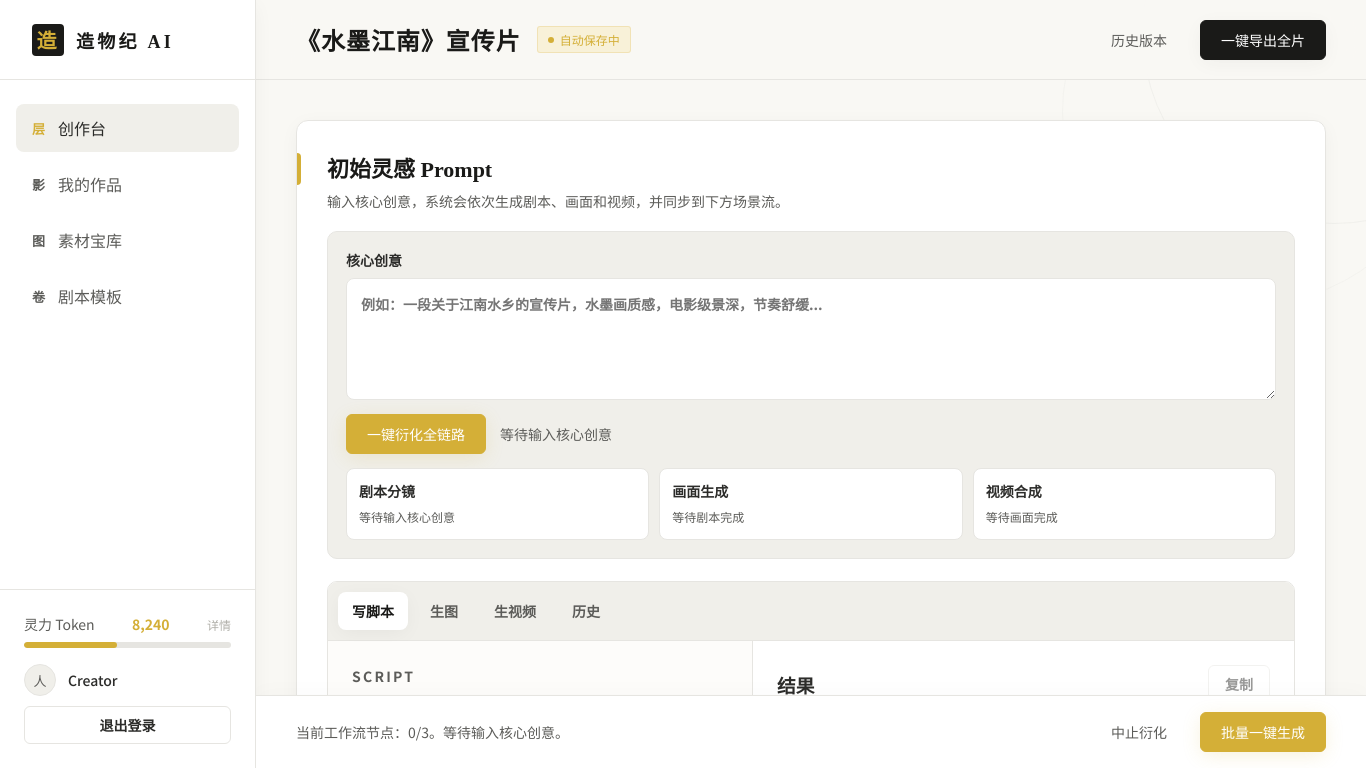
WorkflowShell › shows the failed pipeline stage and retries from the failed step
Expected: the text "Creator" is shown, [68,670,118,690]
Type "水墨江南宣传片" into the text box labelled "核心创意" at (811, 339), box [346,278,1276,400]
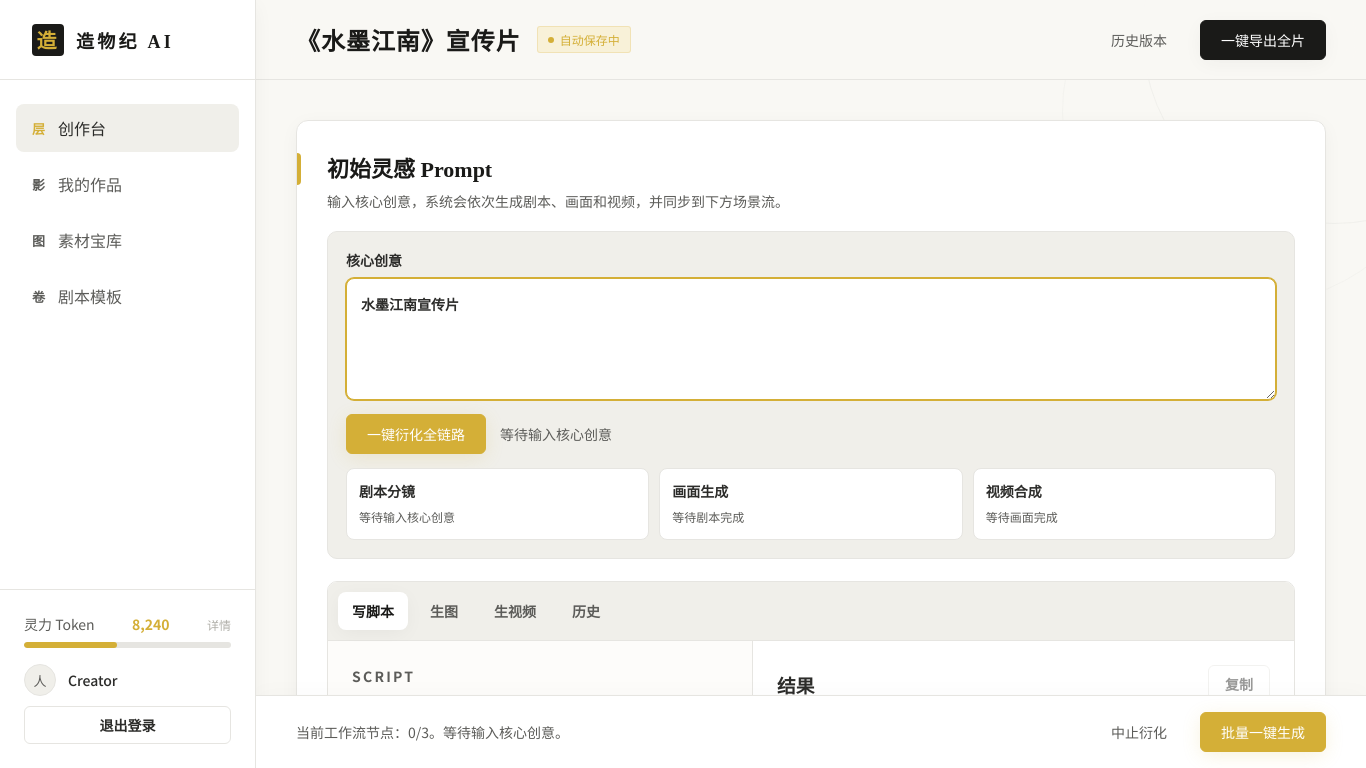
Click the button "一键衍化全链路" at (416, 434), box [346,414,486,454]
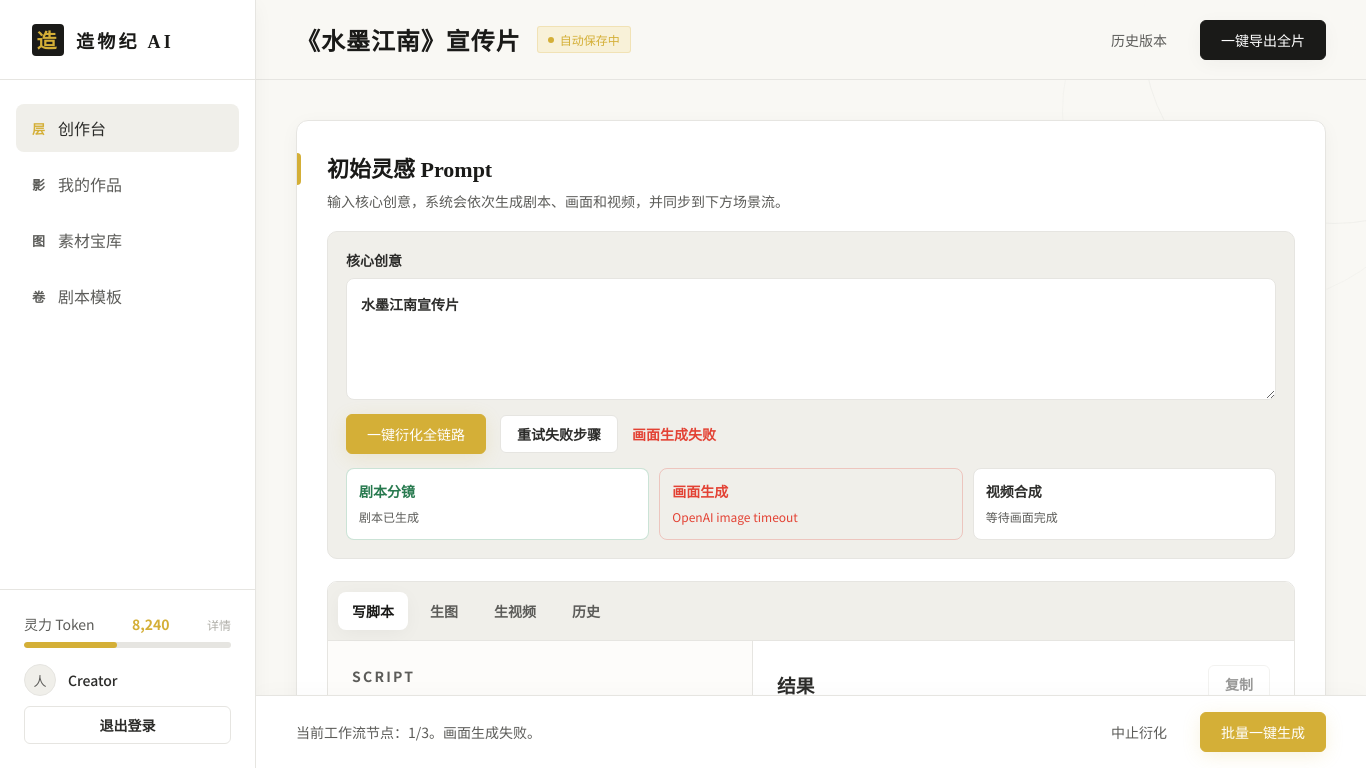
Now the text "画面生成失败" is shown, box [632,424,716,444]
Now the text "OpenAI image timeout" is shown, box [672,508,798,525]
Now the button "重试失败步骤" is shown
Click the button "重试失败步骤" at (559, 434), box [500,415,618,453]
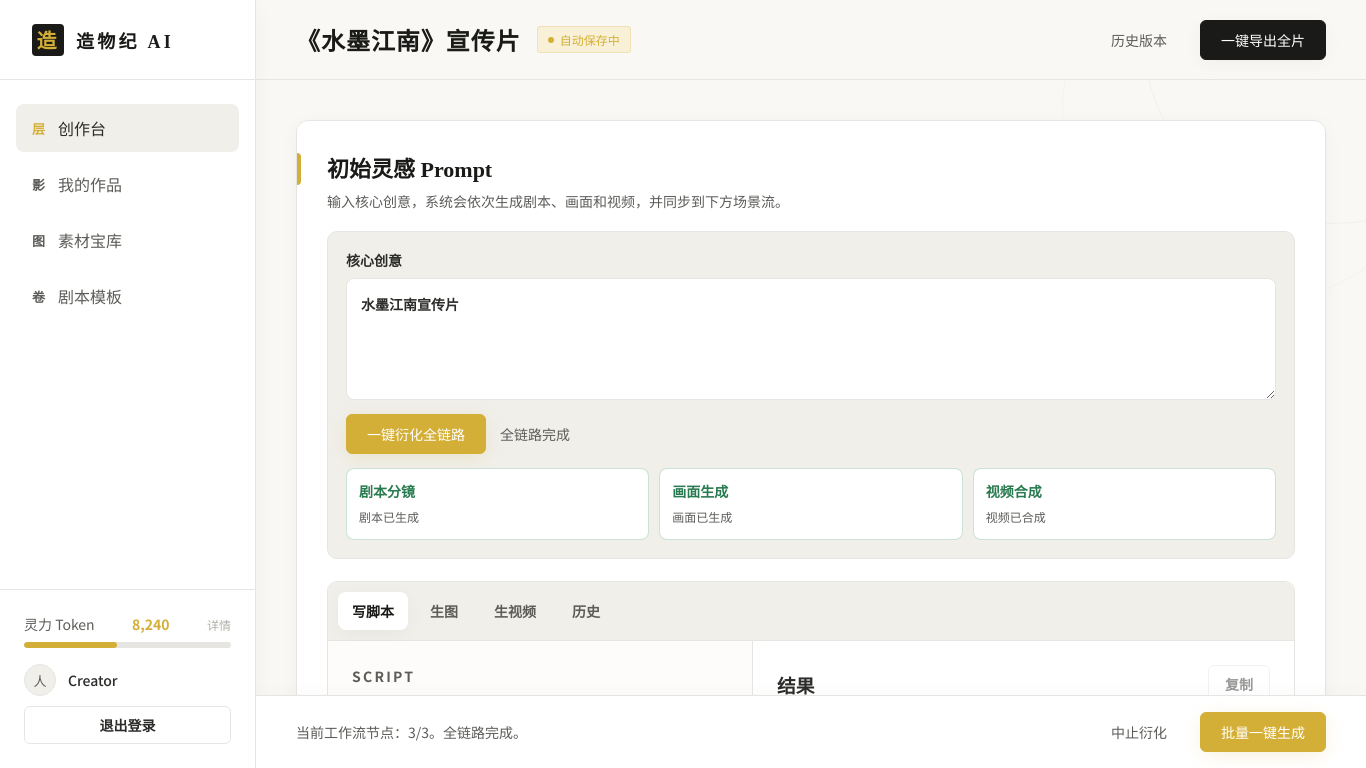
Now the text "全链路完成" is shown, box [500,424,570,444]
